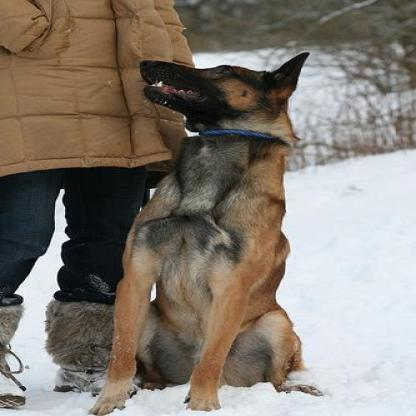malinois: (86, 51, 324, 414)
